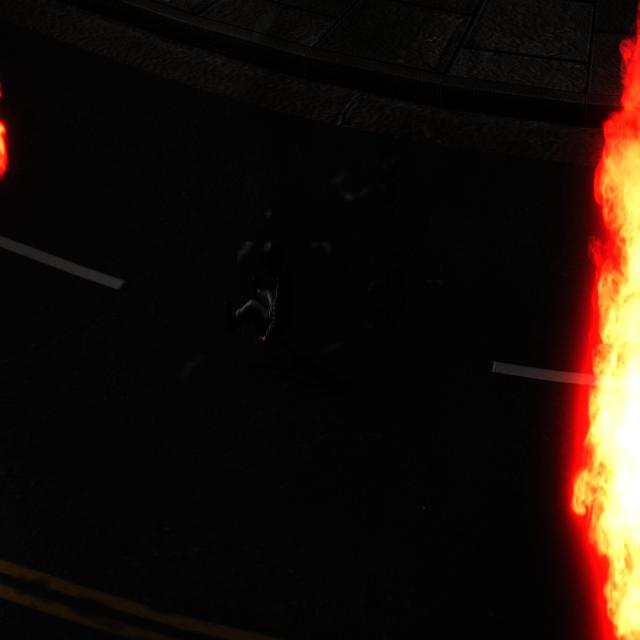Human: (225, 240, 295, 360)
